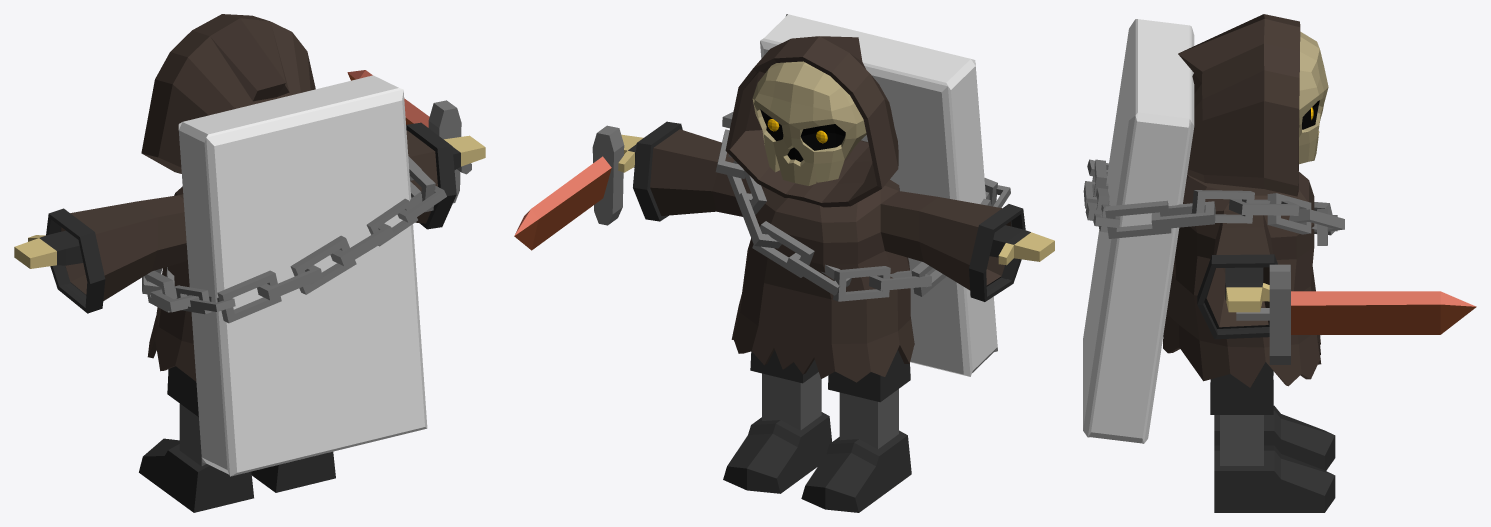
Rendered from AcolitoCompleto.fbx.
3 renders of one model, left to right at view 1: azimuth 30°, elevation 25°; view 2: azimuth 150°, elevation 25°; view 3: azimuth 270°, elevation 25°, orthographic. The views are drawn at different scales.
Parts seen in each view (by area): view 1: Cube.008, Plane.003, Plane.002, feet.002, Cube.005, Cube.012, Cube.013, feet.003, Cube.014, Guarda.001, Cube.011, Cube.010 (+2 smaller); view 2: Plane.003, Cube.008, Plane.002, feet.002, Extras.001, feet.003, Hoja.001, Cube.005, Cube.006, Guarda.001, Cube.009, Cube.007; view 3: Cube.008, Plane.003, Plane.002, feet.002, Hoja.001, feet.003, Extras.001, Cube.015, Guarda.001, Cube.016, Cube.005, Cube.007 (+2 smaller).
Boxes of the visible parts, <box> form: Cube.008: <box>178,75,427,476</box>; Plane.003: <box>46,122,456,381</box>; Plane.002: <box>141,14,315,173</box>; feet.002: <box>139,438,335,512</box>; Cube.005: <box>14,135,485,268</box>; Cube.012: <box>217,265,322,323</box>; Cube.013: <box>290,223,394,294</box>; feet.003: <box>167,366,206,466</box>; Cube.014: <box>366,185,446,246</box>; Guarda.001: <box>428,100,461,203</box>; Cube.011: <box>144,270,198,312</box>; Cube.010: <box>175,286,235,314</box>; Plane.003: <box>633,121,1025,382</box>; Cube.008: <box>760,14,997,376</box>; Plane.002: <box>725,36,898,207</box>; feet.002: <box>723,412,911,512</box>; Extras.001: <box>752,61,866,185</box>; feet.003: <box>750,350,910,448</box>; Hoja.001: <box>514,156,611,250</box>; Cube.005: <box>618,134,1054,265</box>; Cube.006: <box>752,221,851,295</box>; Guarda.001: <box>592,125,624,225</box>; Cube.009: <box>833,266,931,301</box>; Cube.007: <box>727,161,781,248</box>; Cube.008: <box>1083,19,1194,443</box>; Plane.003: <box>1163,171,1321,387</box>; Plane.002: <box>1178,14,1300,196</box>; feet.002: <box>1214,405,1335,512</box>; Hoja.001: <box>1291,291,1476,334</box>; feet.003: <box>1210,362,1273,465</box>; Extras.001: <box>1299,31,1328,164</box>; Cube.015: <box>1105,200,1215,238</box>; Guarda.001: <box>1269,264,1290,364</box>; Cube.016: <box>1191,190,1299,223</box>; Cube.005: <box>1225,267,1269,312</box>; Cube.007: <box>1267,193,1344,234</box>.
Bounding box in the file's own units: 1.76 × 1.31 × 1.69.
